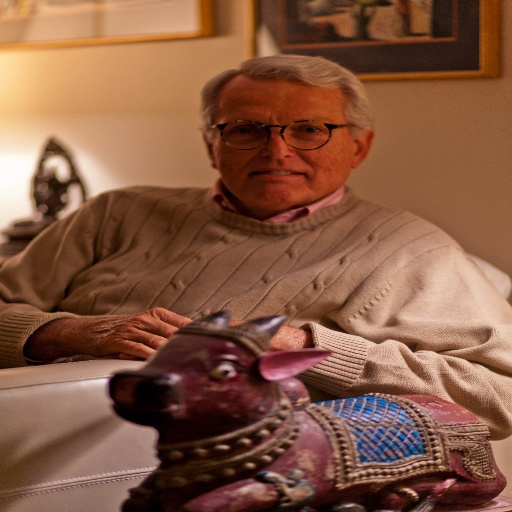hand: (27, 307, 214, 368), (117, 317, 273, 356)
